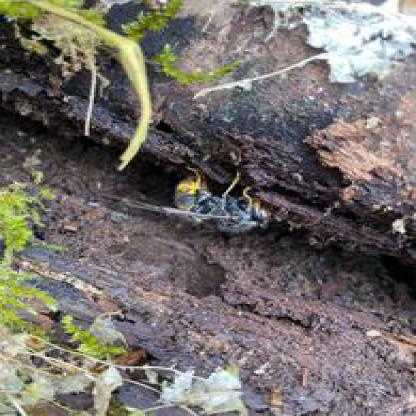Asian Hornet: (166, 163, 278, 237)
